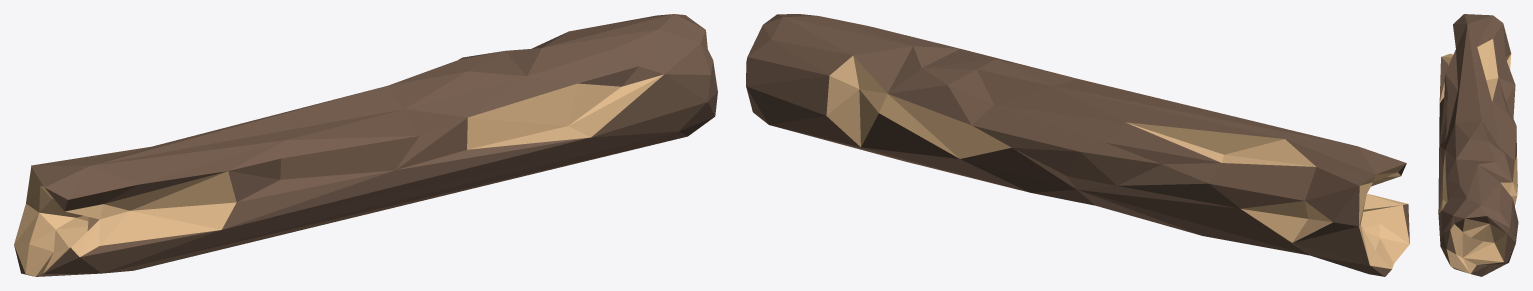
The model's file is wood 2.glb.
3 views of the same model, side by side, from view 1: azimuth 30°, elevation 25°; view 2: azimuth 150°, elevation 25°; view 3: azimuth 270°, elevation 25° (orthographic). The views are drawn at different scales.
Parts seen in each view (by area): view 1: Cube; view 2: Cube; view 3: Cube.
Part boxes in pixels (x1,y1,x2,y2): Cube: (14, 14, 717, 276); Cube: (746, 14, 1409, 276); Cube: (1438, 14, 1518, 276).
Bounding box in the file's own units: 1.23 × 0.2047 × 0.2059.
